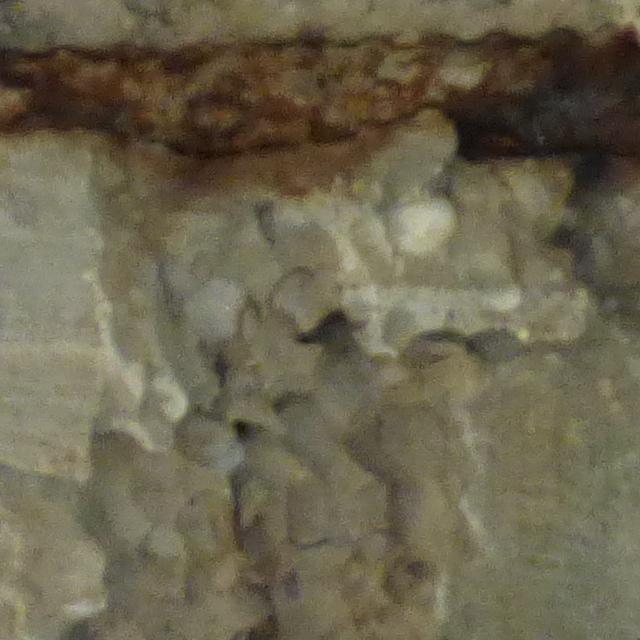Rust: (6, 38, 640, 177)
